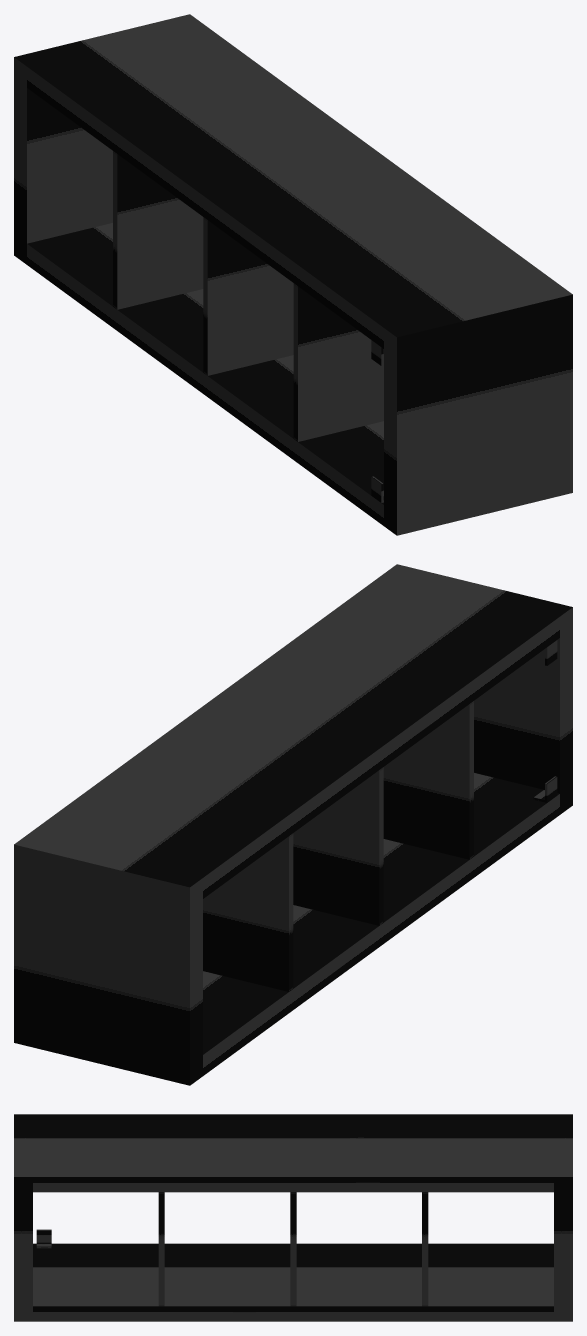
File: shelf-qpylqf-0.obj
3 renders of one model, top to bottom at view 1: azimuth 30°, elevation 25°; view 2: azimuth 150°, elevation 25°; view 3: azimuth 270°, elevation 25°, orthographic. The views are drawn at different scales.
Bounding box in the file's own units: 0.39 × 0.42 × 1.47.
1 material, 1 textured.
